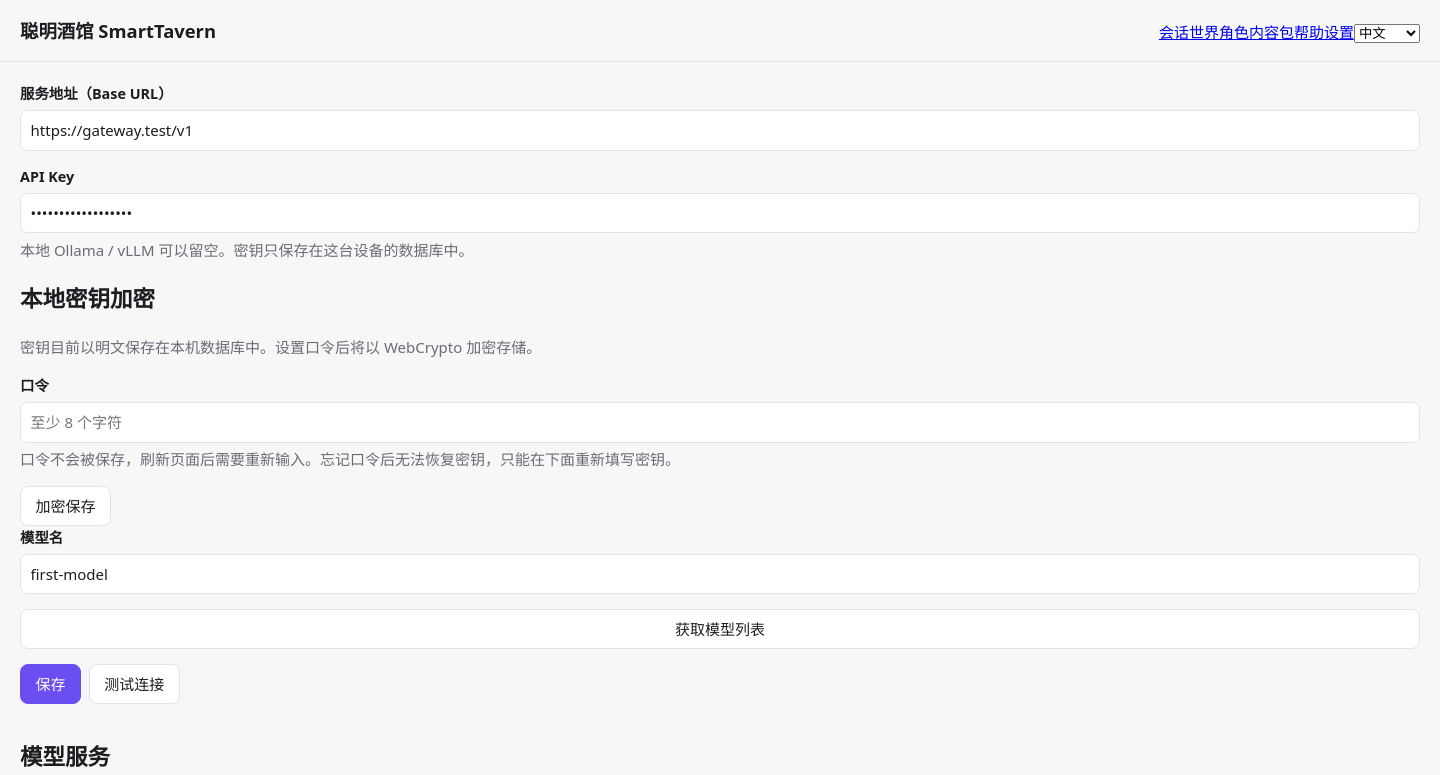
Test: M1-G3: the model list › writes the picked model into the provider row
Click the button "获取模型列表" at point(720, 629), box [20,609,1420,649]
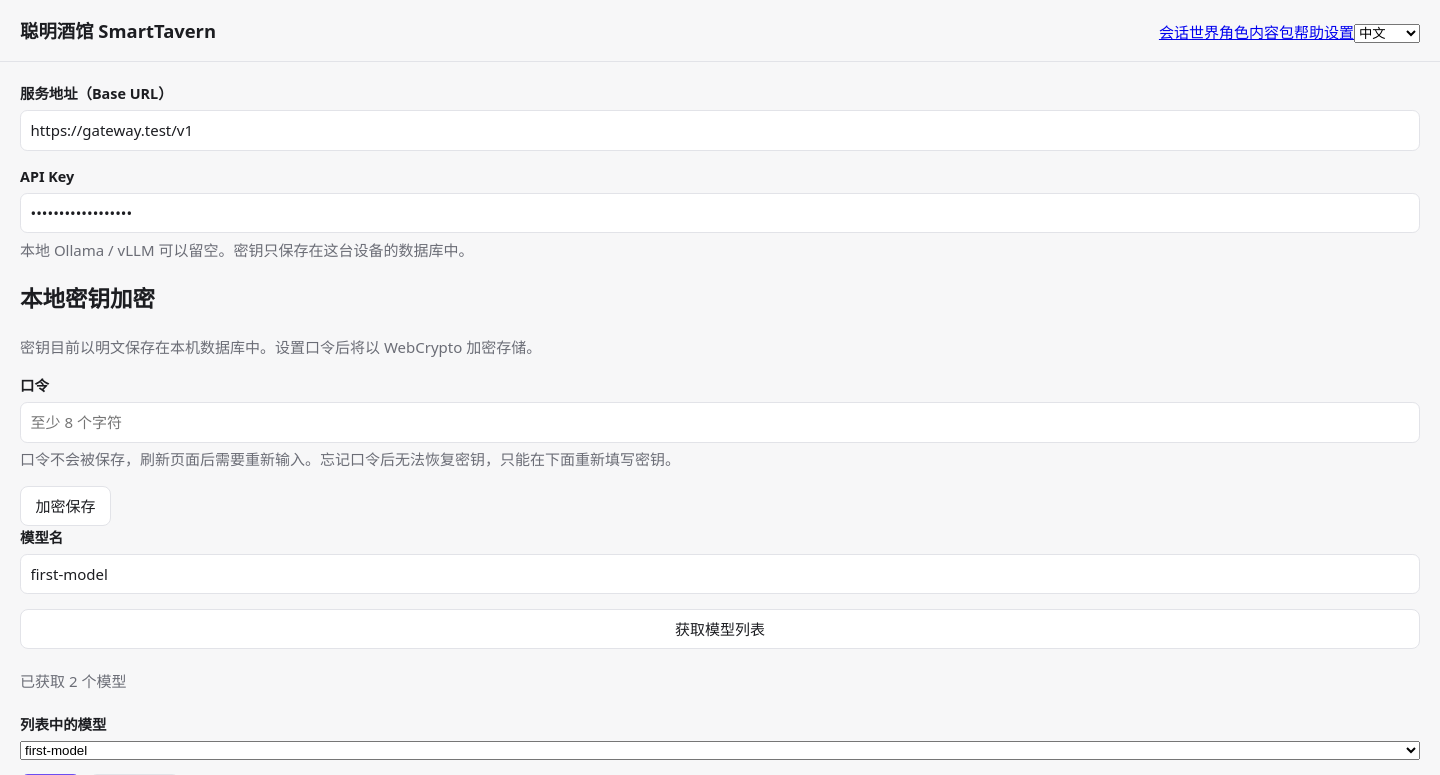
Select "picked-model" in the dropdown with id "model-choice" at point(720, 750), box [20,741,1420,760]
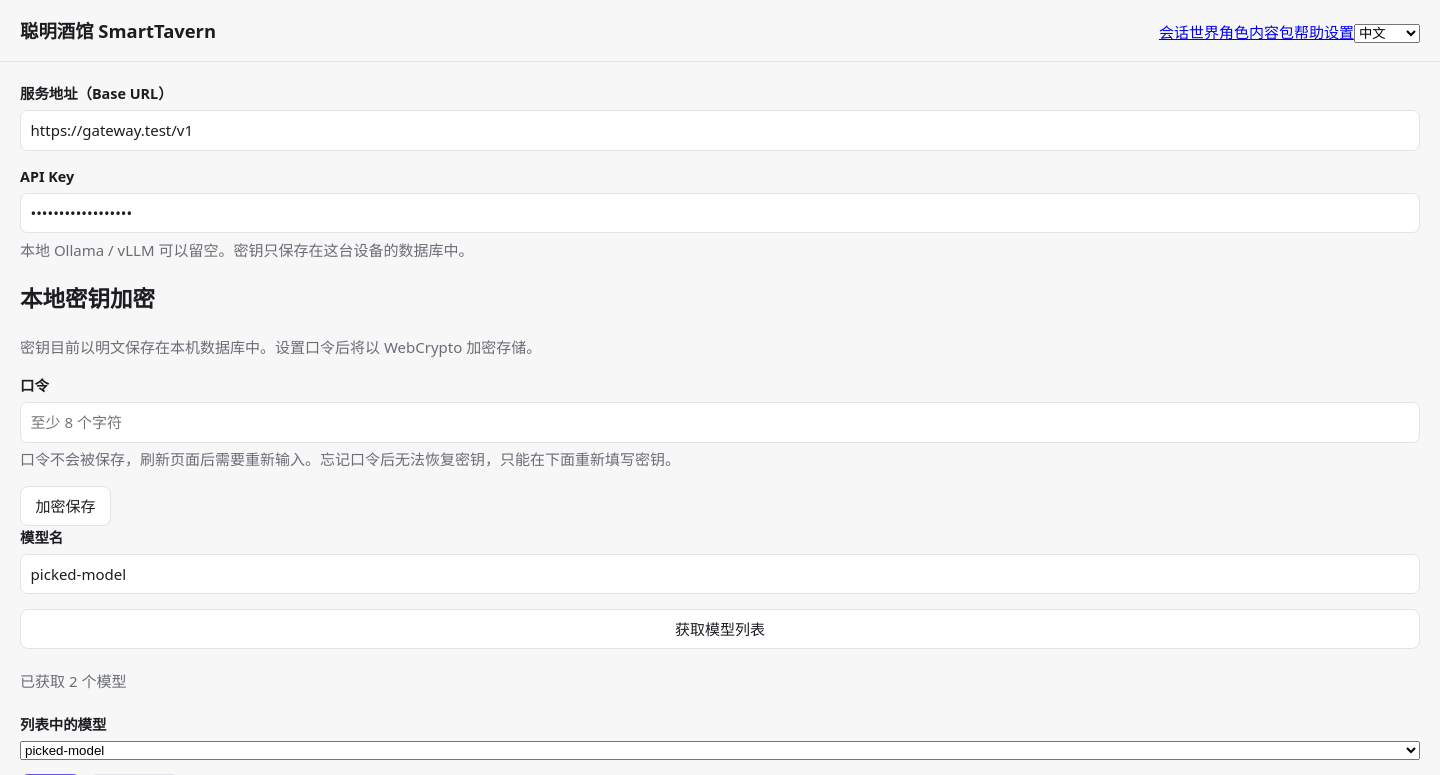
Result: the field with id "model" holds "picked-model" at [20,554,1420,594]
